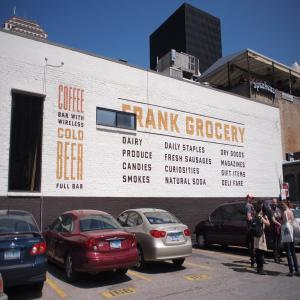Vehicle-registration-plate: (6, 249, 21, 261), (111, 240, 122, 249), (172, 235, 180, 242)
